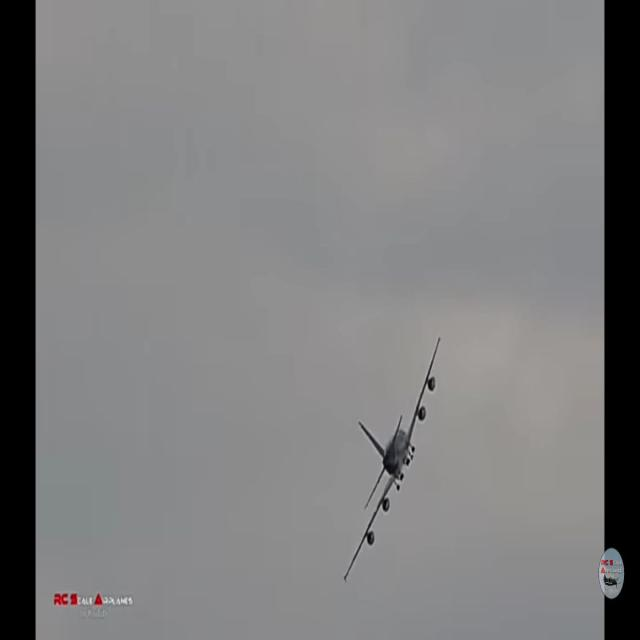iha: (368, 328, 403, 579)
